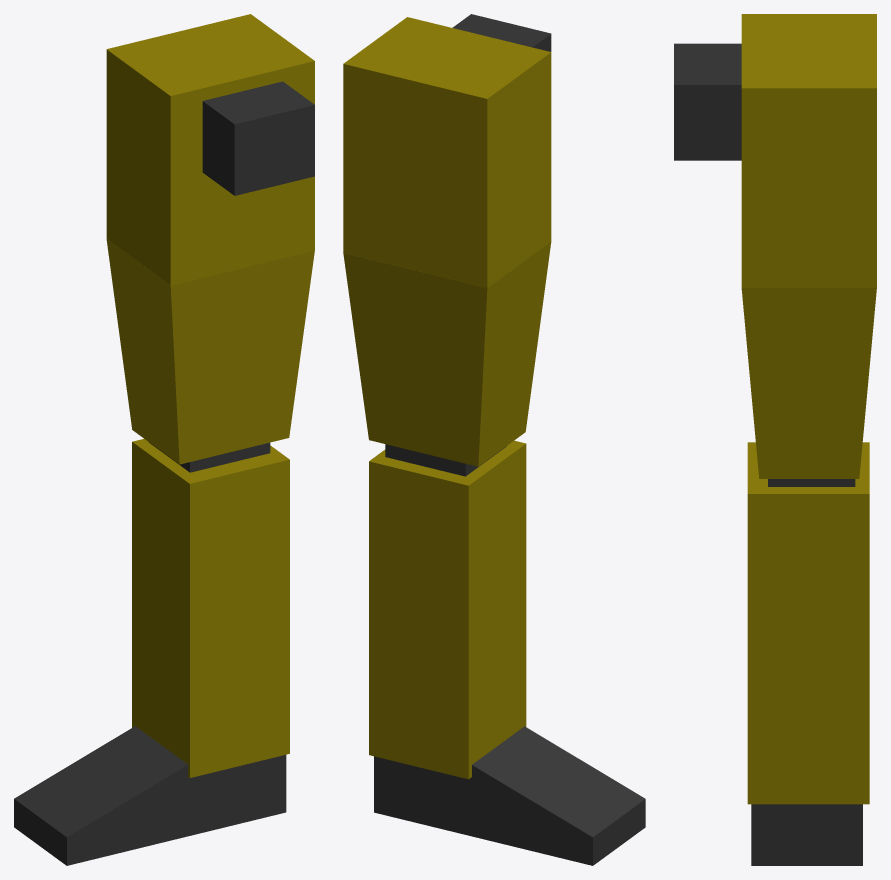
The model's file is RightLeg.obj.
3 views of the same model, side by side, from view 1: azimuth 30°, elevation 25°; view 2: azimuth 150°, elevation 25°; view 3: azimuth 270°, elevation 25° (orthographic). The views are drawn at different scales.
Parts seen in each view (by area): view 1: RightLeg; view 2: RightLeg; view 3: RightLeg.
Part boxes in pixels (box(x1,y1,x2,y2)): RightLeg: box(14, 14, 314, 865); RightLeg: box(343, 14, 645, 865); RightLeg: box(674, 14, 876, 865).
Size of the model in its own units: 0.6086 by 1.79 by 0.4165.
1 material, 1 textured.
